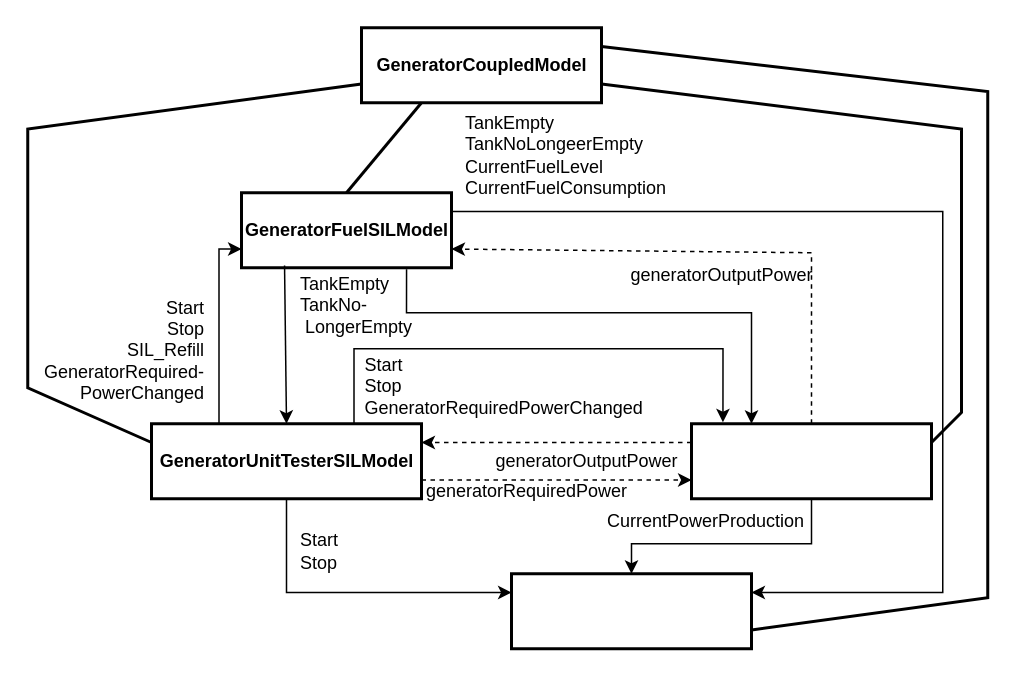
Image size: 1016x675. Some labels were removed from this diagram. The shapes that lost their labels are listed below. From the top down, each one's centre as x and y in pixels, then its label:
At point 810,461: "GeneratorPowerSILModel".
At point 630,611: "GeneratorStateSILModel".
